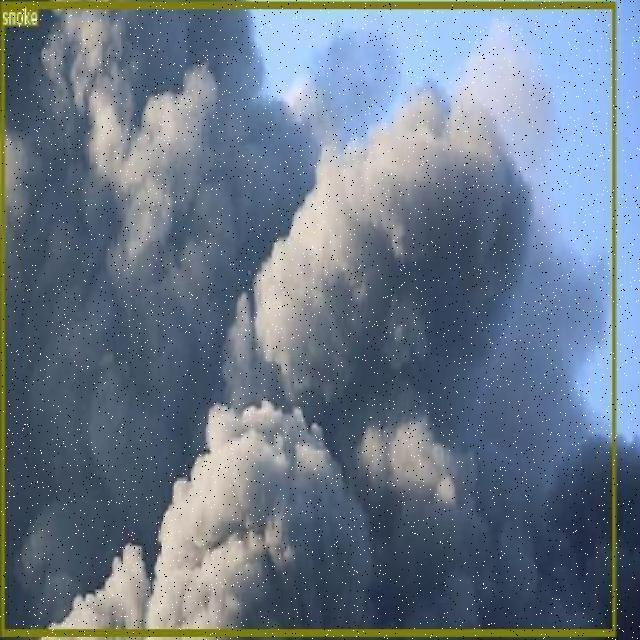Smoke: (0, 0, 615, 634)
